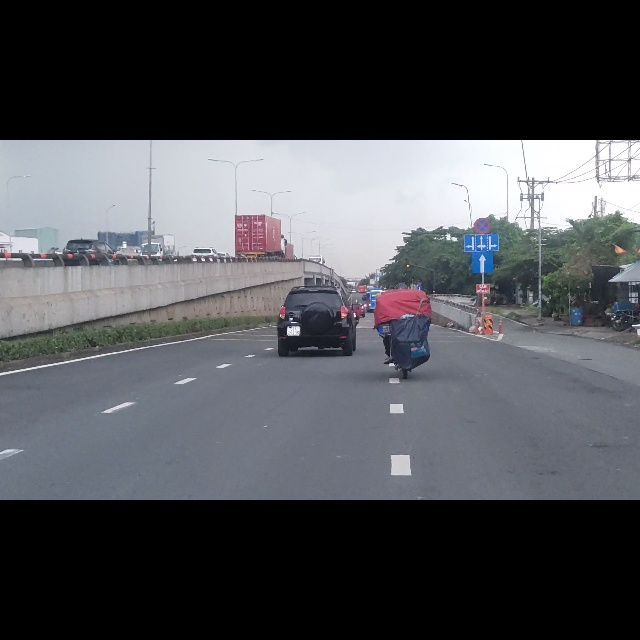bien_chi_dan: (472, 199, 493, 235), (474, 136, 490, 167)
